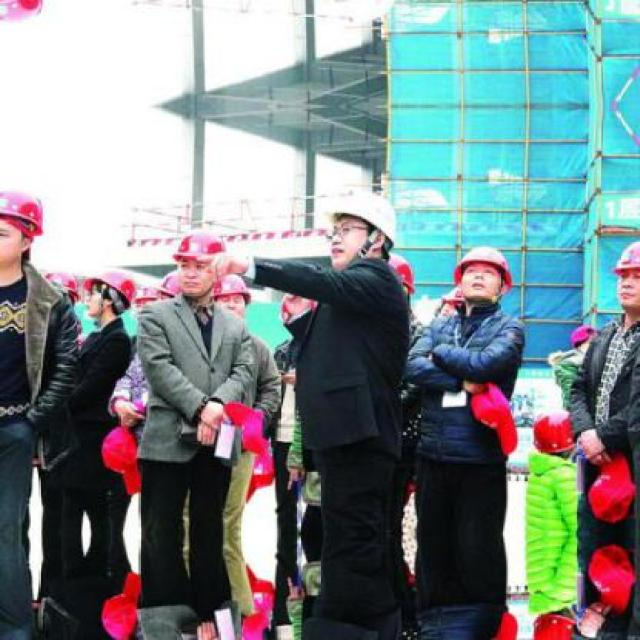helmet: (318, 180, 402, 272), (450, 237, 516, 307), (2, 184, 47, 265), (172, 227, 222, 290), (319, 0, 403, 34), (81, 267, 137, 317), (534, 408, 574, 460), (614, 235, 638, 316), (212, 272, 250, 316), (534, 604, 575, 637), (1, 0, 47, 29)
